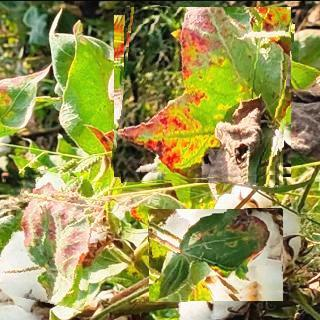blight: (114, 6, 291, 183), (4, 169, 103, 306), (149, 208, 283, 300)
